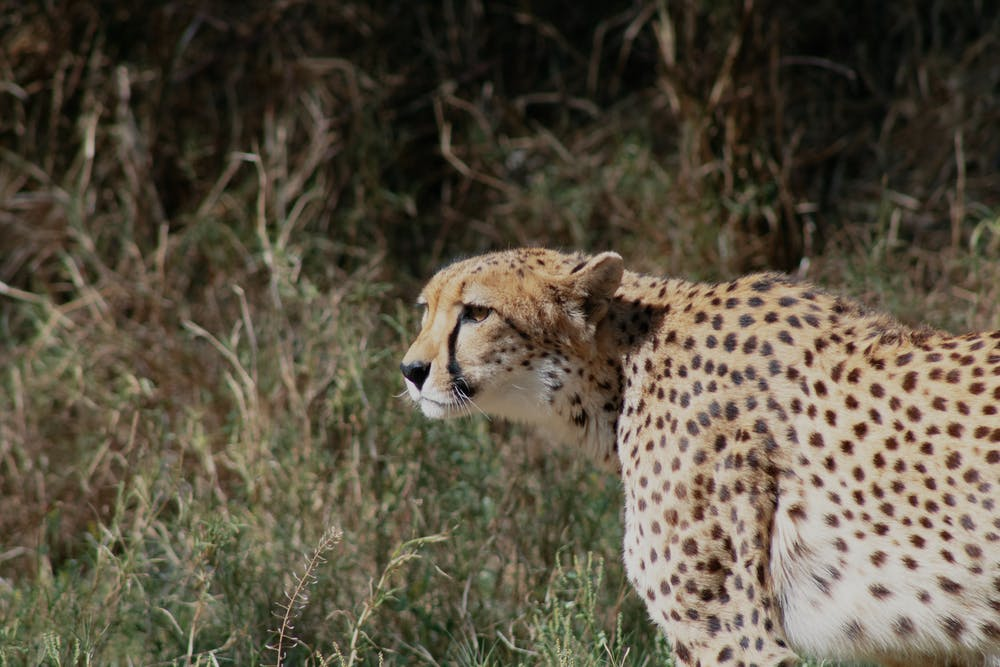cheetah: (386, 235, 637, 447)
